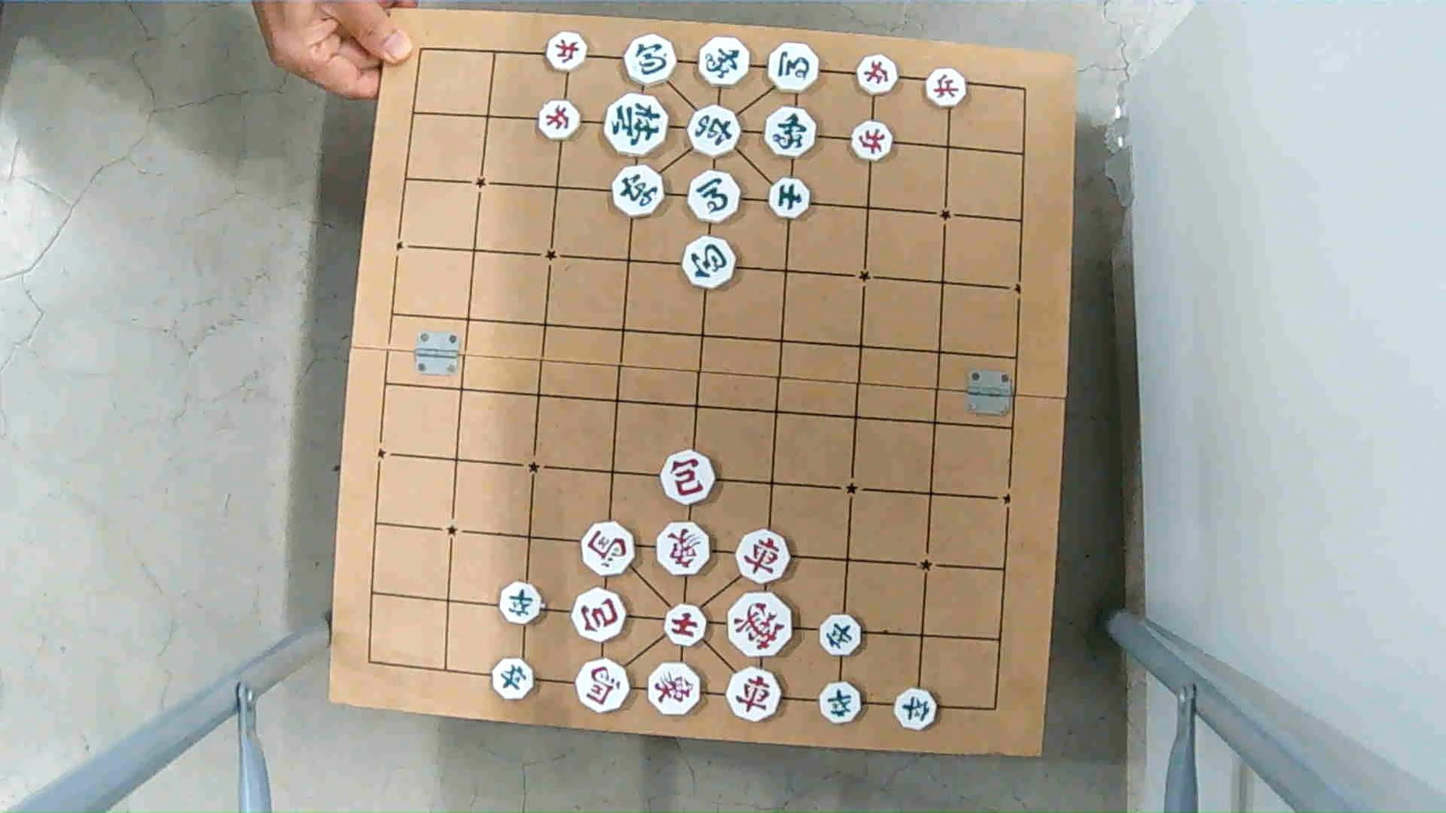cha_green: (610, 165, 665, 219), (685, 108, 741, 157)
cha_red: (735, 530, 791, 580), (727, 670, 782, 719)
jol_green: (493, 656, 537, 702), (818, 615, 865, 655), (892, 687, 934, 730), (502, 586, 545, 625), (822, 684, 864, 723)
jol_red: (536, 103, 580, 141), (854, 55, 897, 93), (925, 71, 969, 108), (851, 123, 895, 160), (546, 34, 590, 70)
ma_green: (688, 168, 745, 221), (767, 43, 821, 91)
ma_red: (575, 659, 633, 712), (581, 524, 639, 575)
po_green: (680, 234, 740, 291), (624, 36, 679, 86)
po_red: (659, 456, 716, 506), (572, 592, 627, 641)
sa_green: (768, 178, 812, 218)
sa_red: (664, 606, 709, 647)
sang_green: (696, 38, 751, 86), (764, 107, 820, 154)
sang_red: (645, 662, 703, 714), (655, 524, 713, 575)
wang_green: (602, 96, 669, 154)
wang_red: (725, 595, 793, 657)
